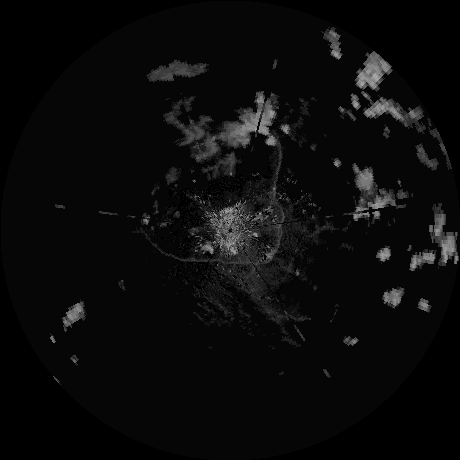frontgust: (139, 230, 269, 265), (270, 133, 287, 258)
